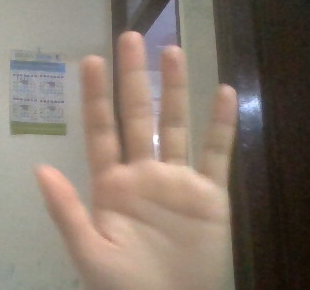move: (35, 32, 286, 282)
